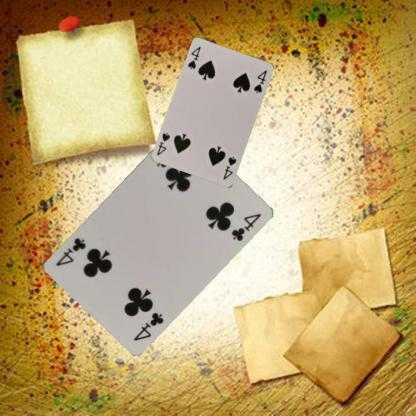4c: (130, 309, 165, 342)
4s: (220, 154, 238, 180), (186, 44, 202, 71)
